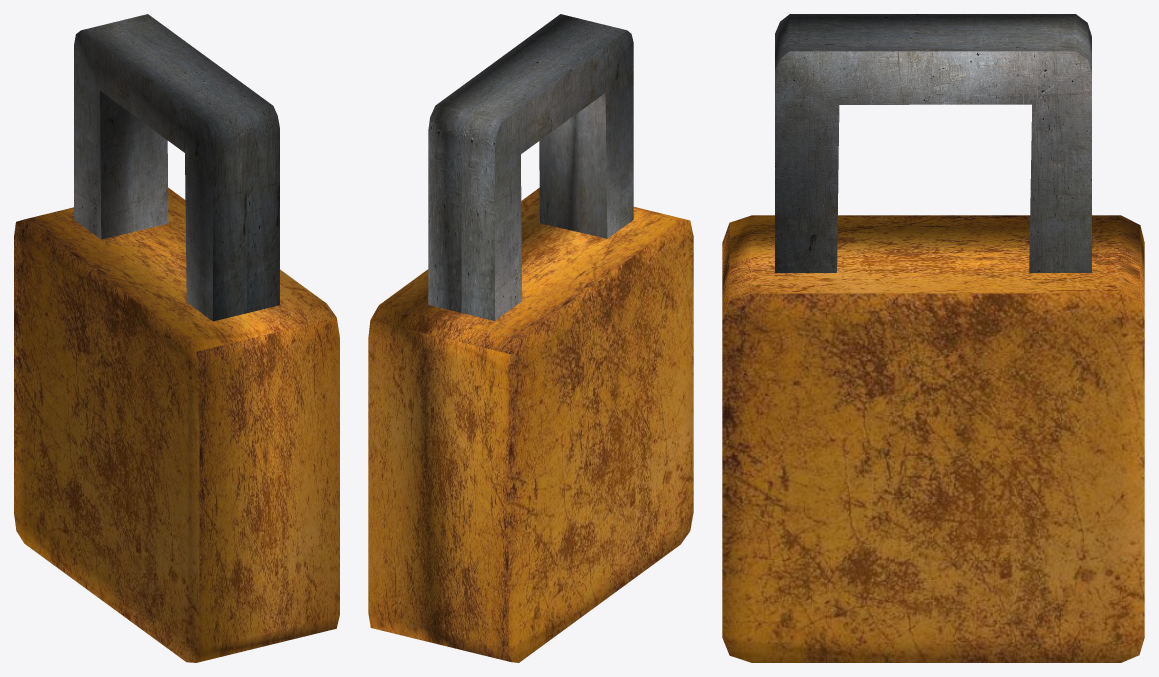
The model's file is pad.dae.
The picture shows the model from 3 angles, left to right: view 1: azimuth 30°, elevation 25°; view 2: azimuth 150°, elevation 25°; view 3: azimuth 270°, elevation 25°; orthographic projection. The views are drawn at different scales.
Parts seen in each view (by area): view 1: Cube.001; view 2: Cube.001; view 3: Cube.001.
Part boxes in pixels (x1,y1,x2,y2): Cube.001: [14, 14, 339, 662]; Cube.001: [368, 14, 693, 662]; Cube.001: [722, 14, 1144, 662].
Size of the model in its own units: 0.6513 by 1.49 by 2.3.
